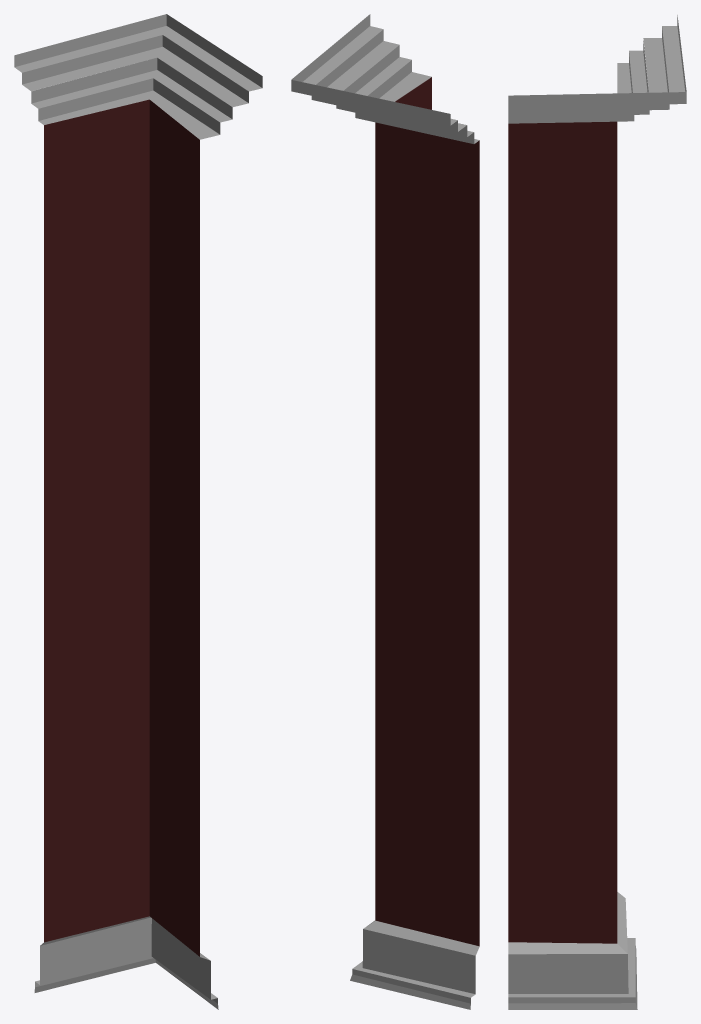
File: CornerPiece.fbx
The picture shows the model from 3 angles, left to right: view 1: azimuth 30°, elevation 25°; view 2: azimuth 150°, elevation 25°; view 3: azimuth 270°, elevation 25°; orthographic projection. The views are drawn at different scales.
Visible parts, largest first — view 1: polySurface79; view 2: polySurface79; view 3: polySurface79.
Part boxes in pixels (x1,y1,x2,y2): polySurface79: (14, 14, 262, 1009); polySurface79: (291, 14, 479, 1009); polySurface79: (508, 15, 686, 1009).
Bounding box in the file's own units: 0.673 × 3.6 × 0.622.
